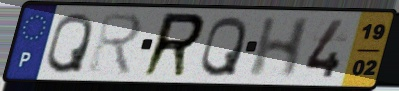4: (301, 17, 346, 80)
H: (245, 16, 315, 80)
Q: (197, 14, 250, 80), (43, 11, 96, 76)
R: (139, 10, 209, 80), (86, 11, 145, 78)
